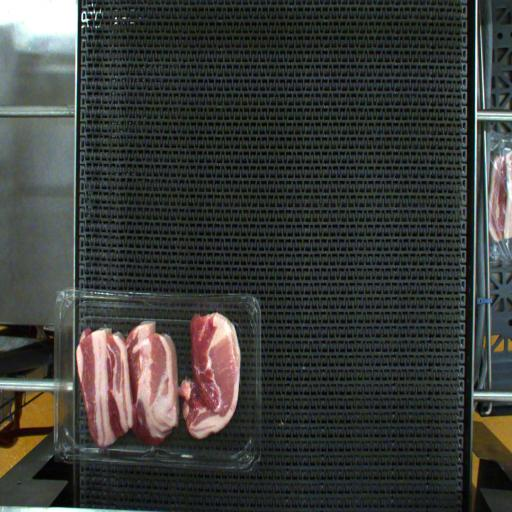loose-meat: (184, 311, 234, 449)
